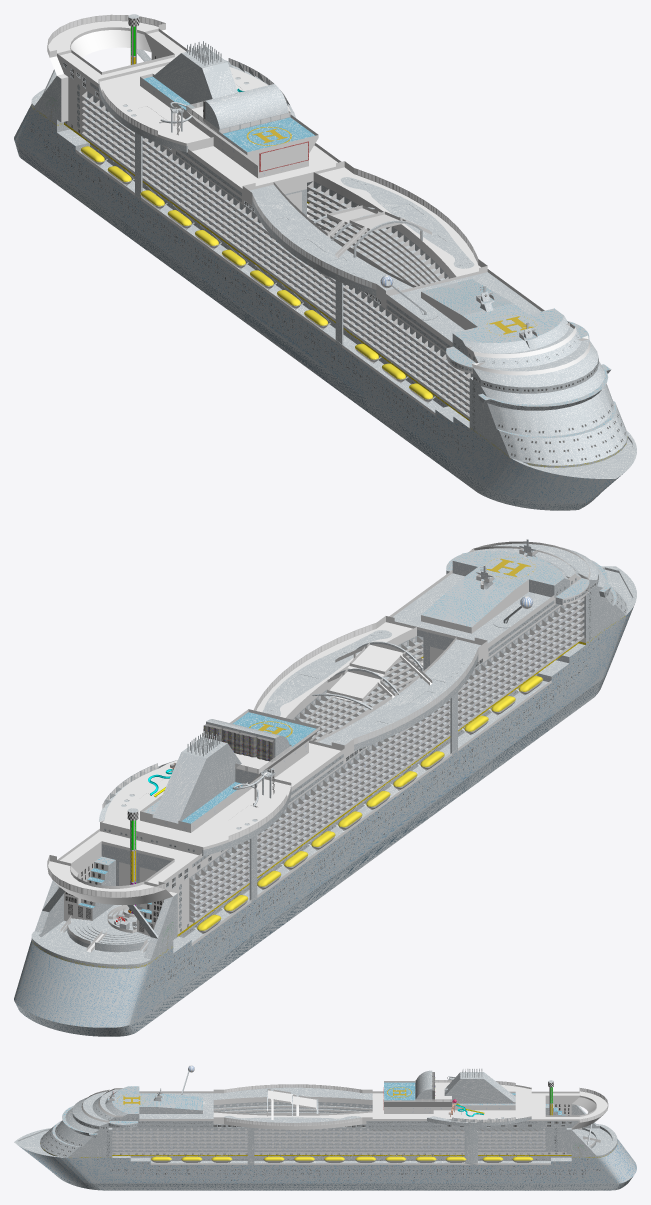
Rendered from CruiseShip.fbx.
3 views of the same model, one above another, from view 1: azimuth 30°, elevation 25°; view 2: azimuth 150°, elevation 25°; view 3: azimuth 270°, elevation 25° (orthographic). The views are drawn at different scales.
Parts seen in each view (by area): view 1: CruiseShip; view 2: CruiseShip; view 3: CruiseShip.
Boxes of the visible parts, x1=… form: CruiseShip: x1=14, y1=14, x2=636, y2=510; CruiseShip: x1=14, y1=539, x2=636, y2=1036; CruiseShip: x1=14, y1=1065, x2=636, y2=1190.
Size of the model in its own units: 2621 by 3178 by 17271.
